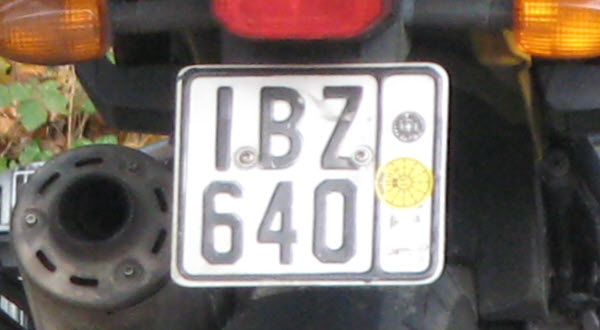license_plate: (169, 64, 443, 285)
